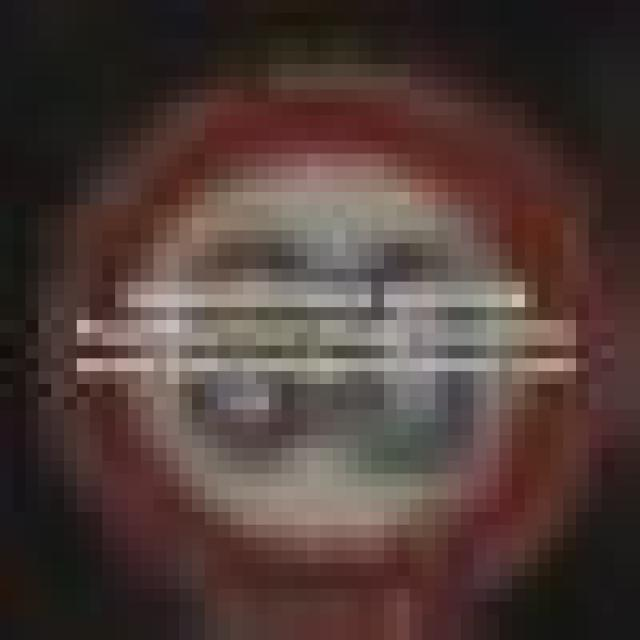speed_limit_50: (26, 51, 627, 627)
